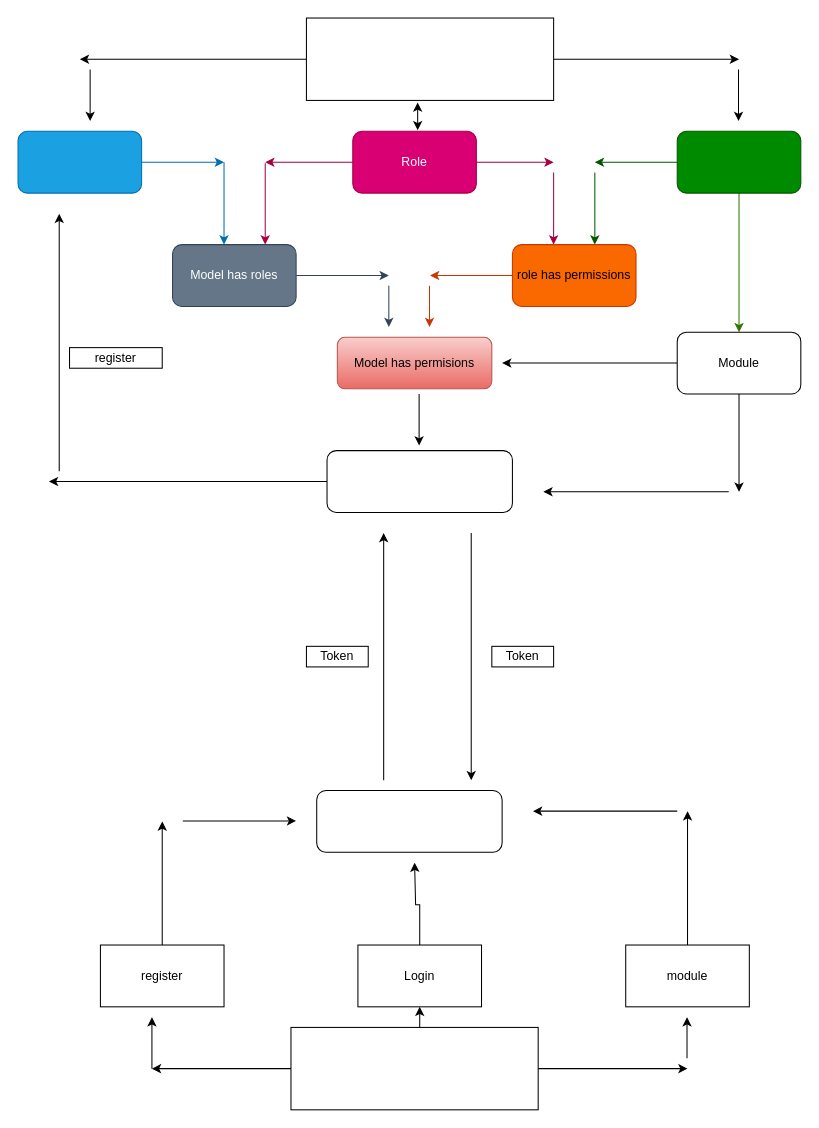
This 819x1128 diagram has some shape labels left out. The centre of each missing label's shape, as x and y in pixels:
authentication: (x=409, y=820)
Permissions: (x=738, y=161)
System A: (x=414, y=1068)
Token & module: (x=419, y=481)
User: (x=79, y=161)
User Management: (x=429, y=58)
